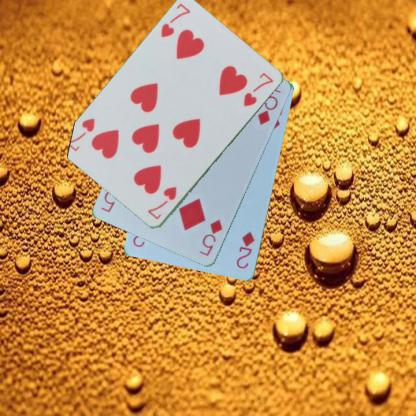2d: (234, 229, 256, 270)
5d: (197, 216, 224, 258)
7h: (158, 1, 192, 39), (145, 184, 178, 221)
